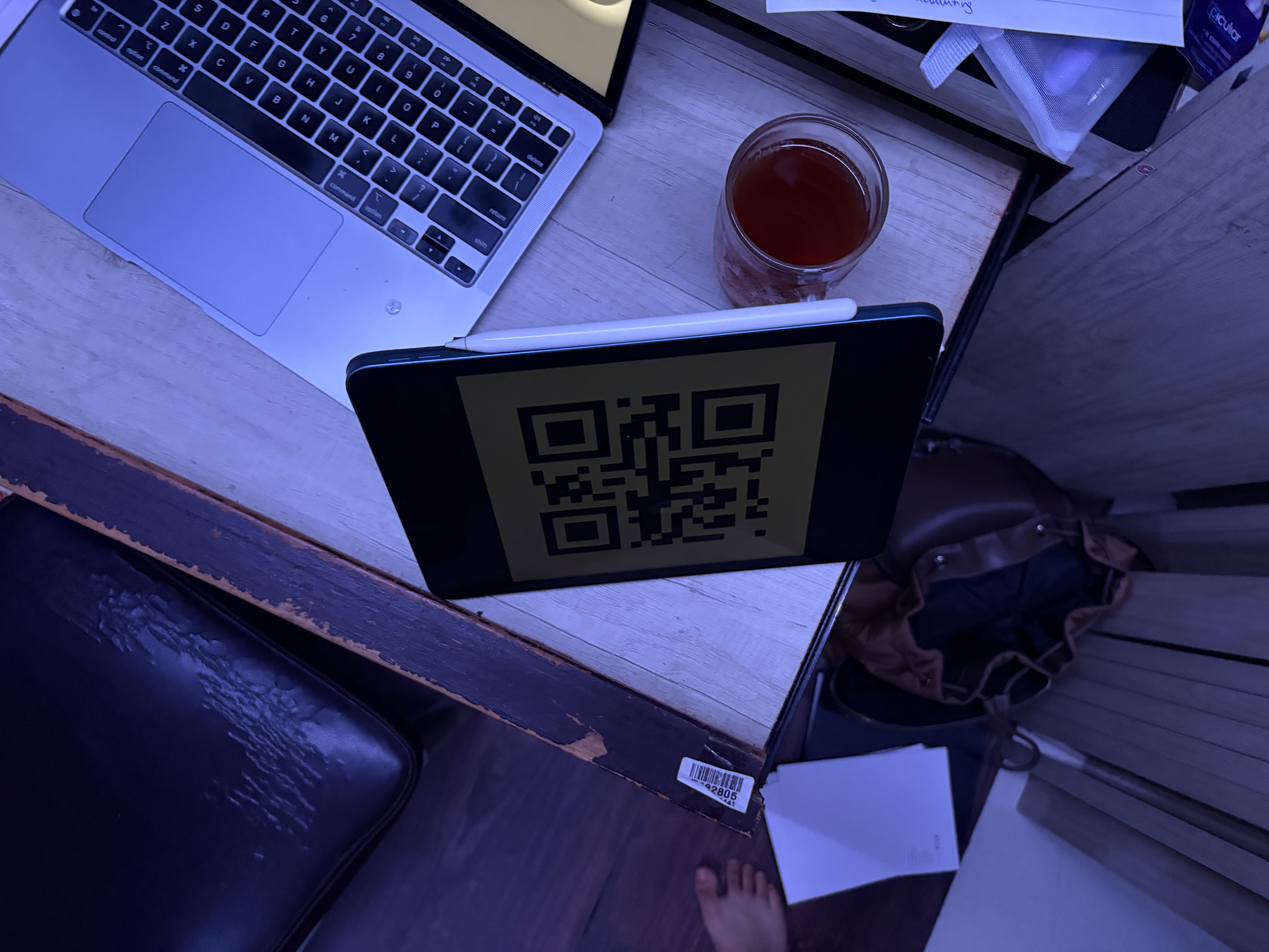QR: (491, 374, 796, 566)
